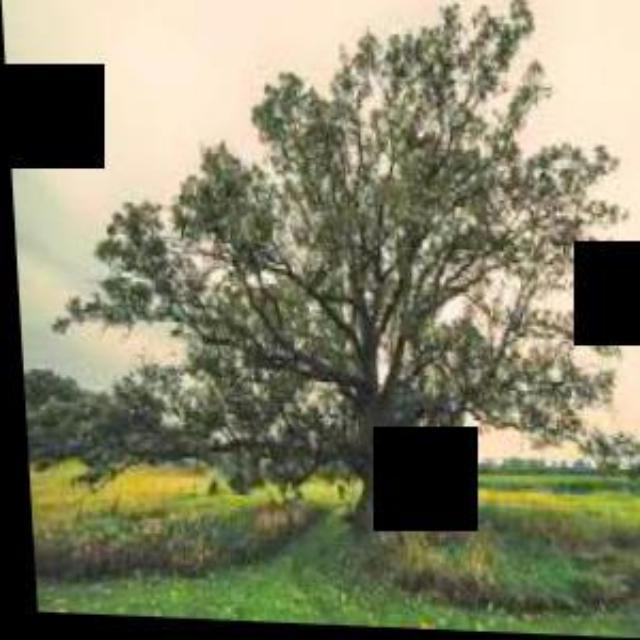tree: (38, 0, 640, 558)
